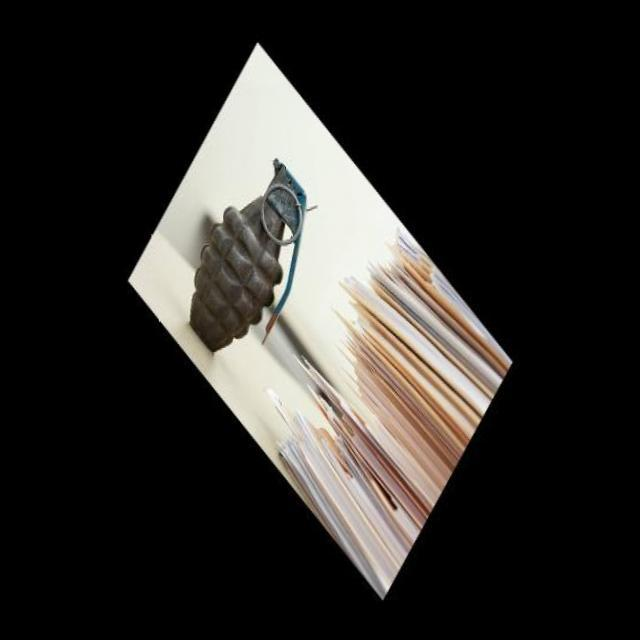grenade: (168, 146, 322, 354)
